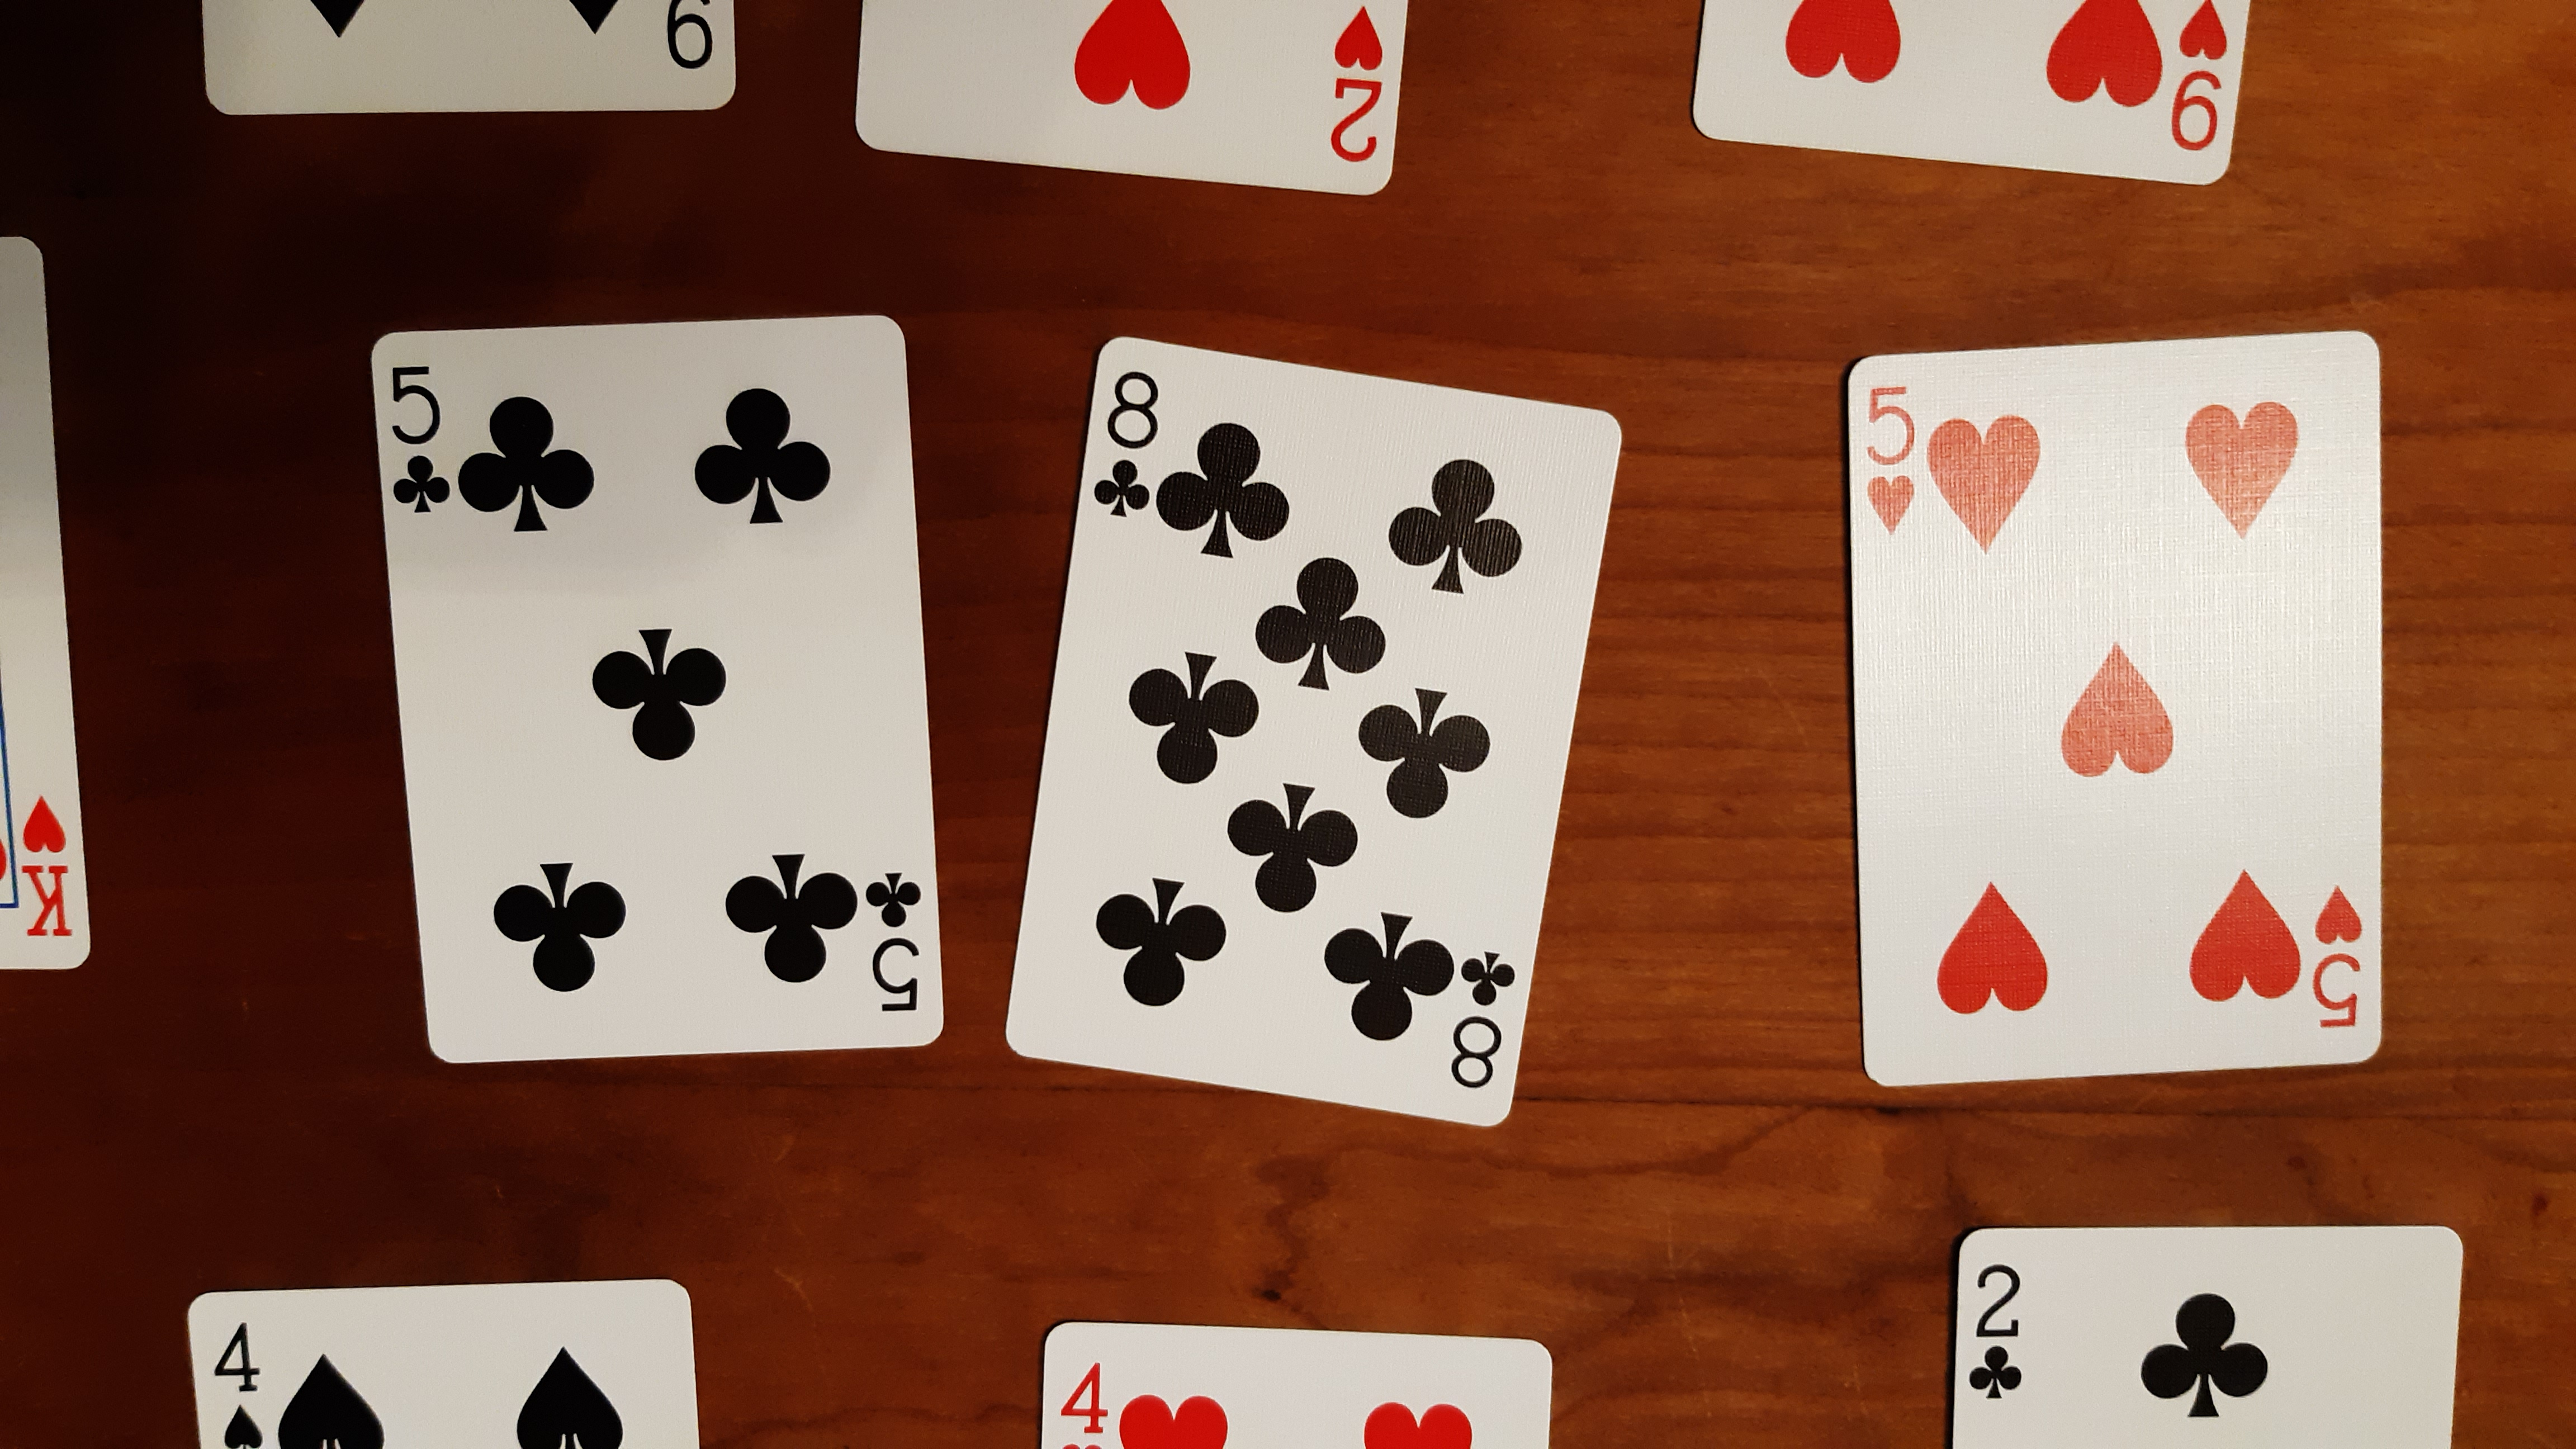Black_Club_2: (1960, 1256, 2031, 1408)
Black_Club_5: (382, 354, 464, 524), (860, 860, 929, 1017)
Black_Club_8: (1444, 941, 1518, 1106), (1092, 361, 1161, 525)
Black_Spade_4: (211, 1316, 269, 1445)
Red_Heart_4: (1056, 1357, 1491, 1445)
Red_Heart_5: (1859, 373, 1920, 543), (2307, 881, 2371, 1035)
Red_Heart_King: (19, 789, 78, 950)
